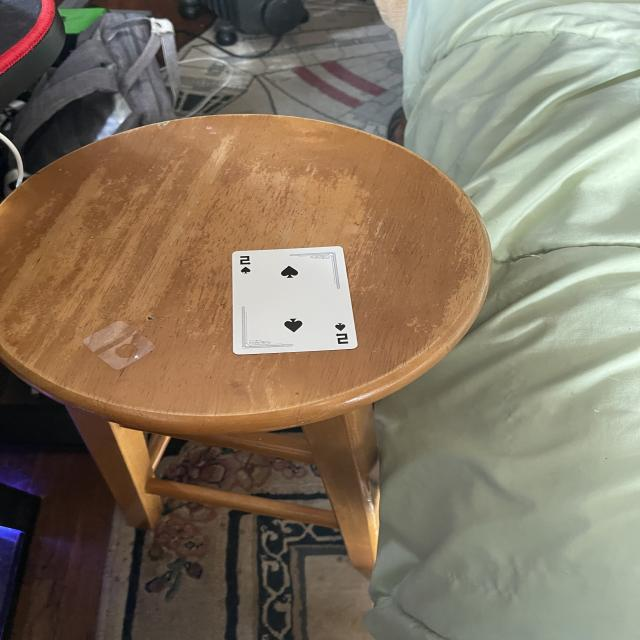2 of spades: (231, 246, 359, 357)
